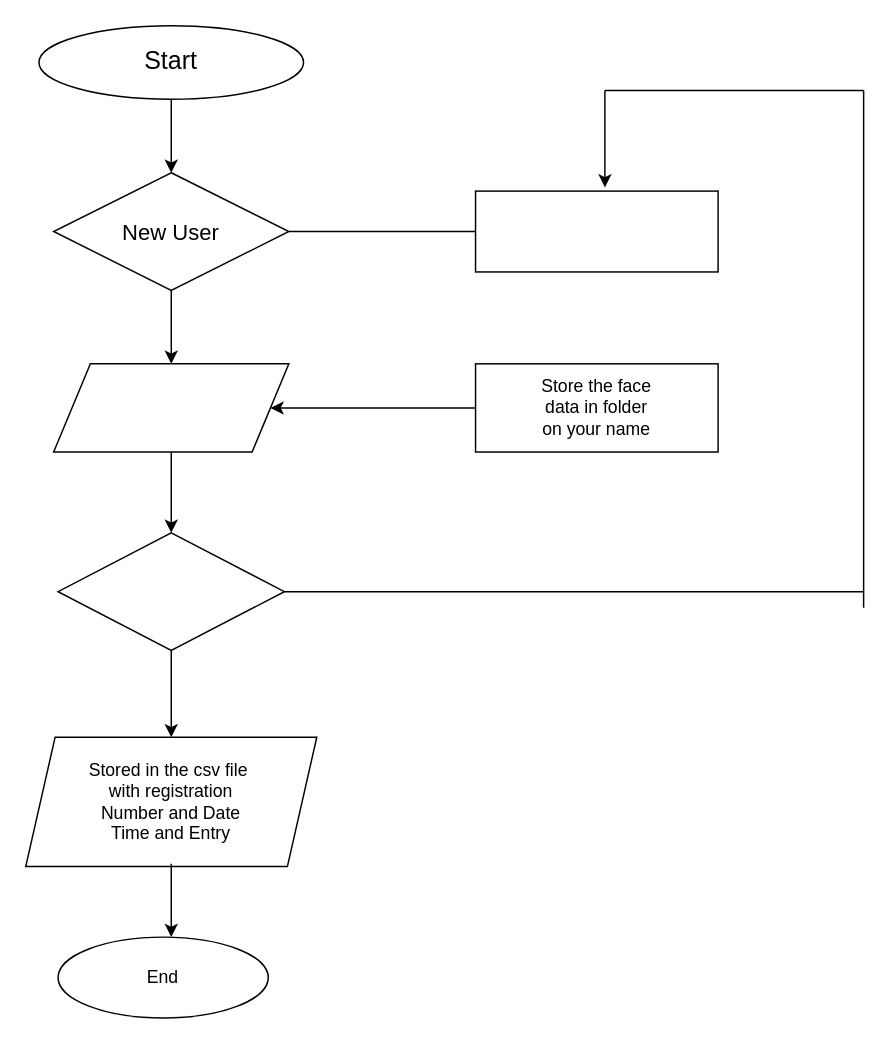
This 891x1044 diagram has some shape labels left out. Here are the shapes that lost their labels. From the top down, the centre of each, then its label:
At point (596, 231): "Give your Photograph".
At point (170, 407): "Recognize the Face".
At point (170, 590): "Face Recognized".
